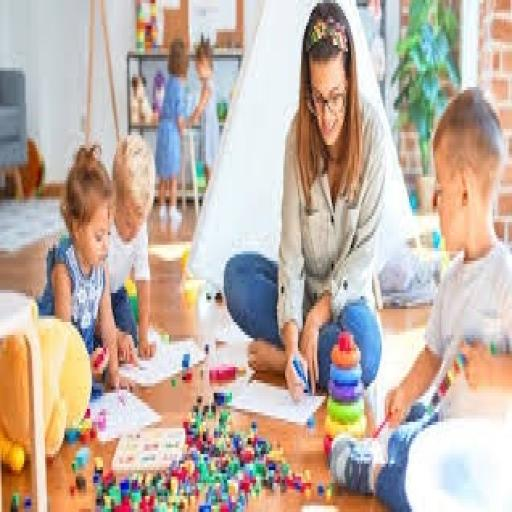baby: (329, 87, 511, 511), (38, 145, 130, 389), (108, 136, 156, 360)
